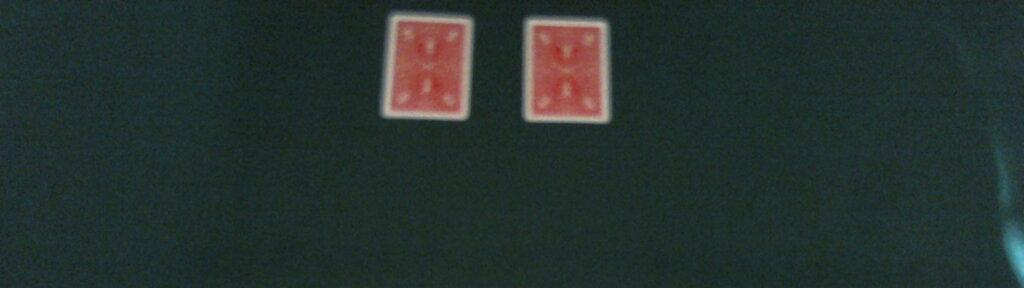back: (380, 12, 472, 121), (518, 18, 612, 124)
